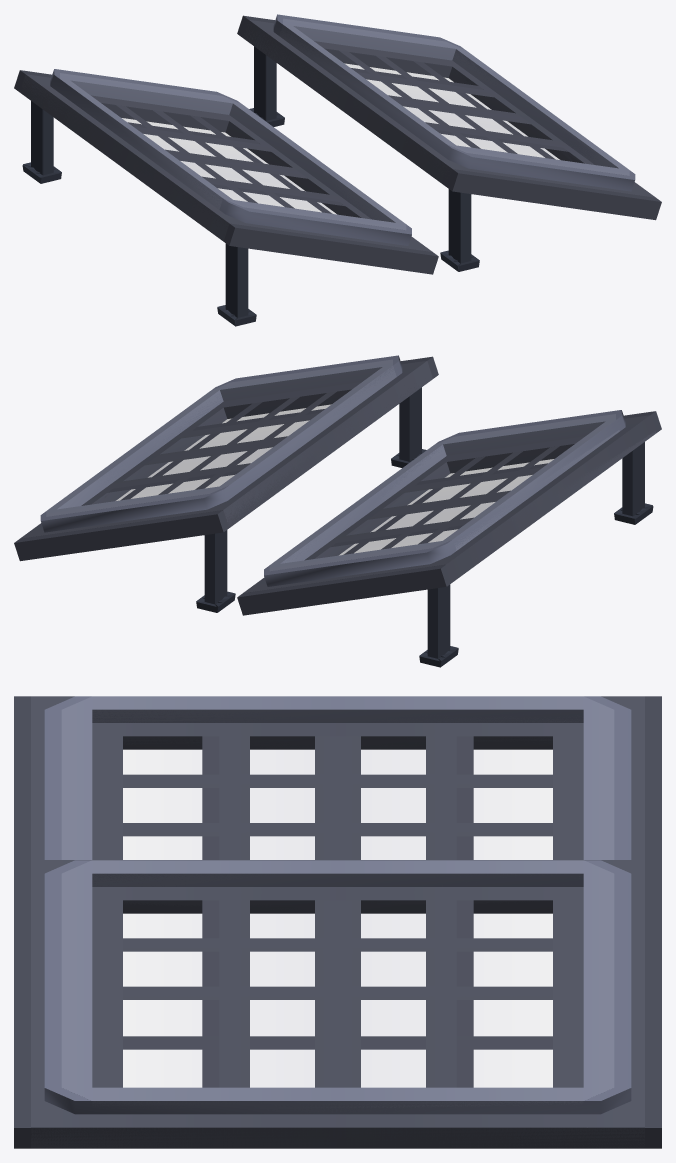
Rendered from sun_power.glb.
3 views of the same model, one above another, from view 1: azimuth 30°, elevation 25°; view 2: azimuth 150°, elevation 25°; view 3: azimuth 270°, elevation 25° (orthographic). The views are drawn at different scales.
Parts seen in each view (by area): view 1: 立方体, 立方体.001; view 2: 立方体, 立方体.001; view 3: 立方体.001, 立方体.
Part boxes in pixels (bbox=[...]): 立方体: bbox=[14, 69, 438, 326]; 立方体.001: bbox=[237, 14, 661, 271]; 立方体: bbox=[237, 410, 661, 667]; 立方体.001: bbox=[14, 355, 438, 612]; 立方体.001: bbox=[14, 860, 661, 1148]; 立方体: bbox=[14, 696, 661, 859].
Bounding box in the file's own units: 0.9698 × 0.2299 × 0.8359.
2 materials, 1 textured.
